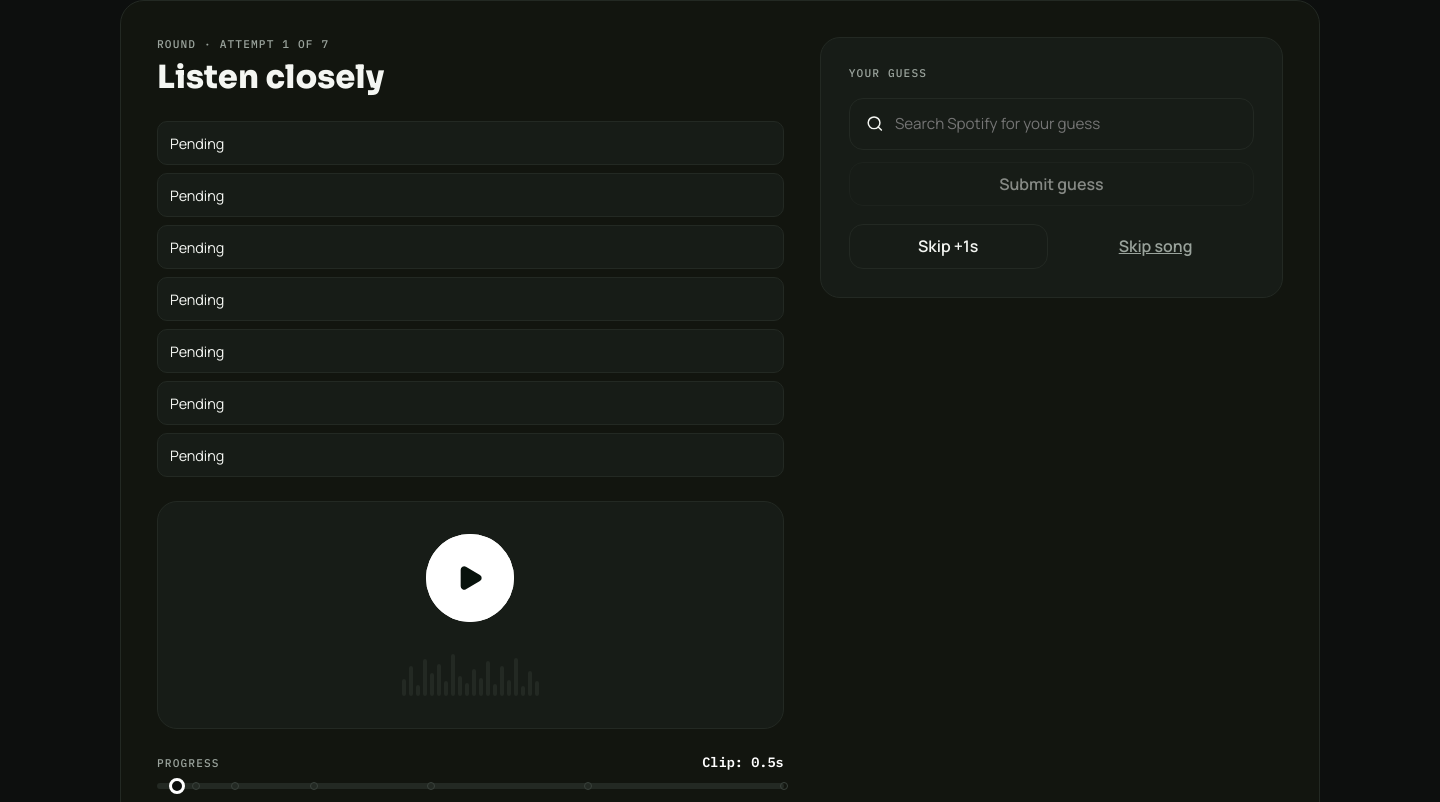
GameScreen interactions › activates before playback and submits a globally searched track that is absent from the answer catalog
Click the button named "Play 0.5 second clip".
click(470, 578)  # box [426,534,514,622]
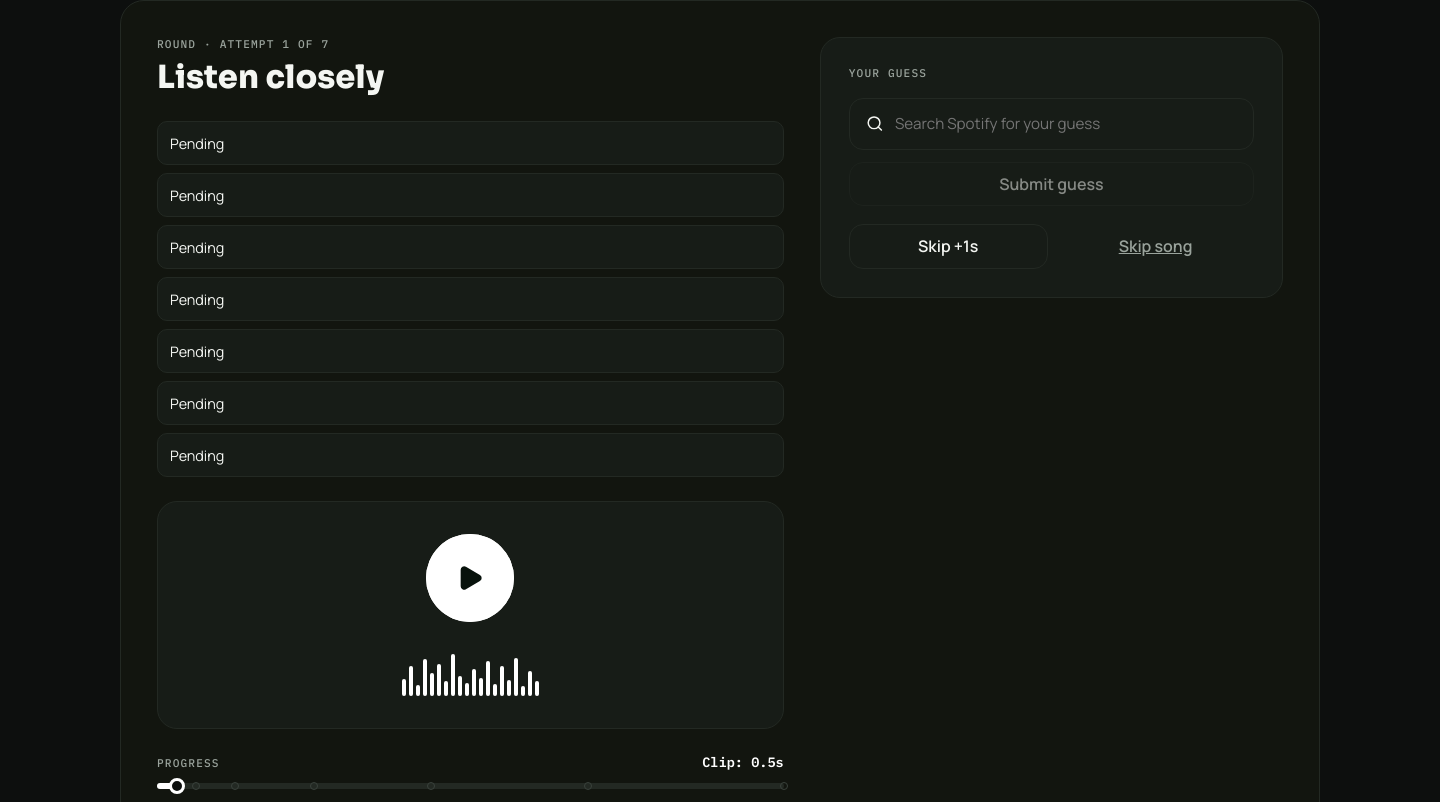
Type "Outside Song" into the dropdown labelled "guess".
click(1065, 124); type("Outside Song")  # box [893,112,1237,135]
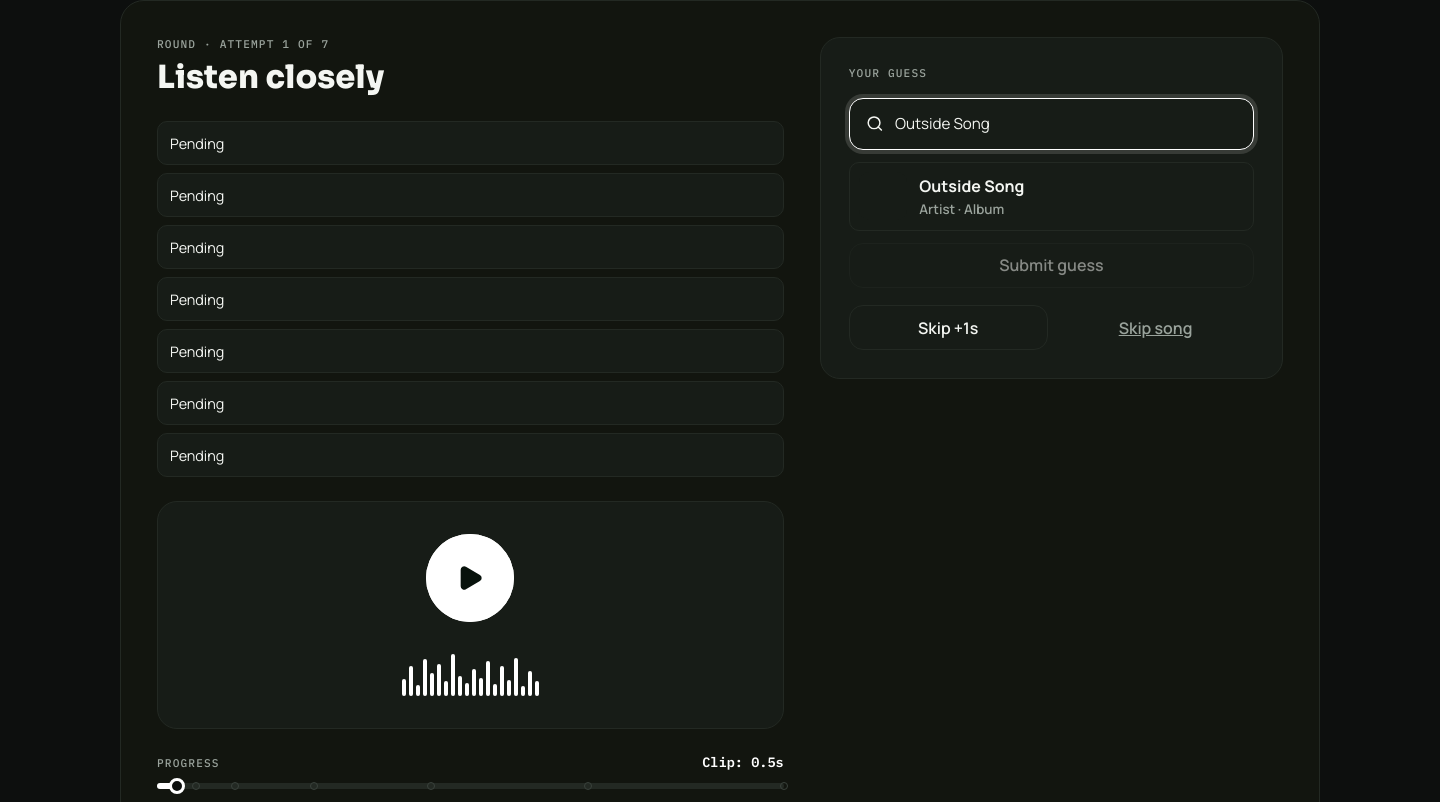
Click the option "Outside Song Artist · Album".
click(883, 196)  # box [849,162,1254,231]
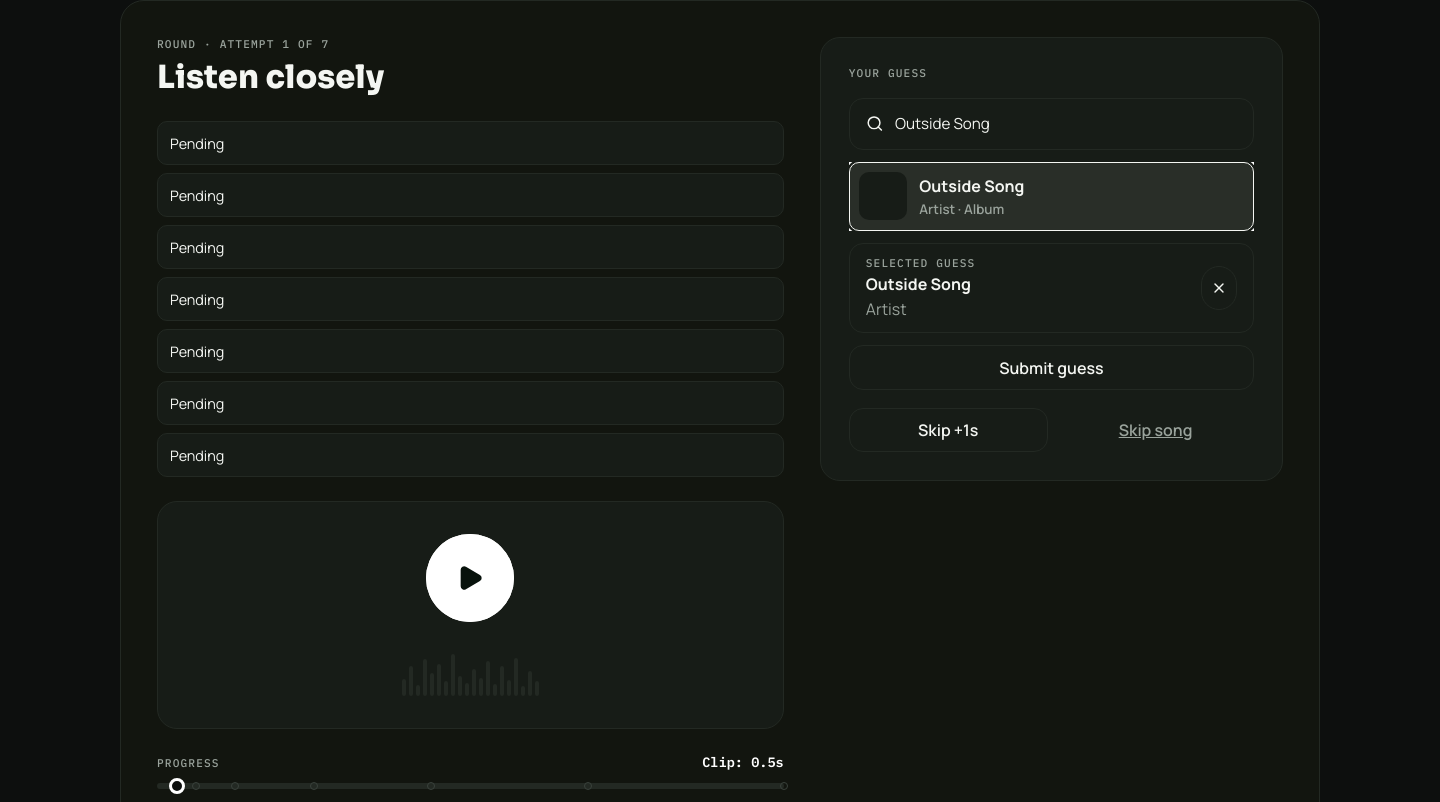
Click the button "Submit guess".
click(1051, 368)  # box [849,345,1254,390]
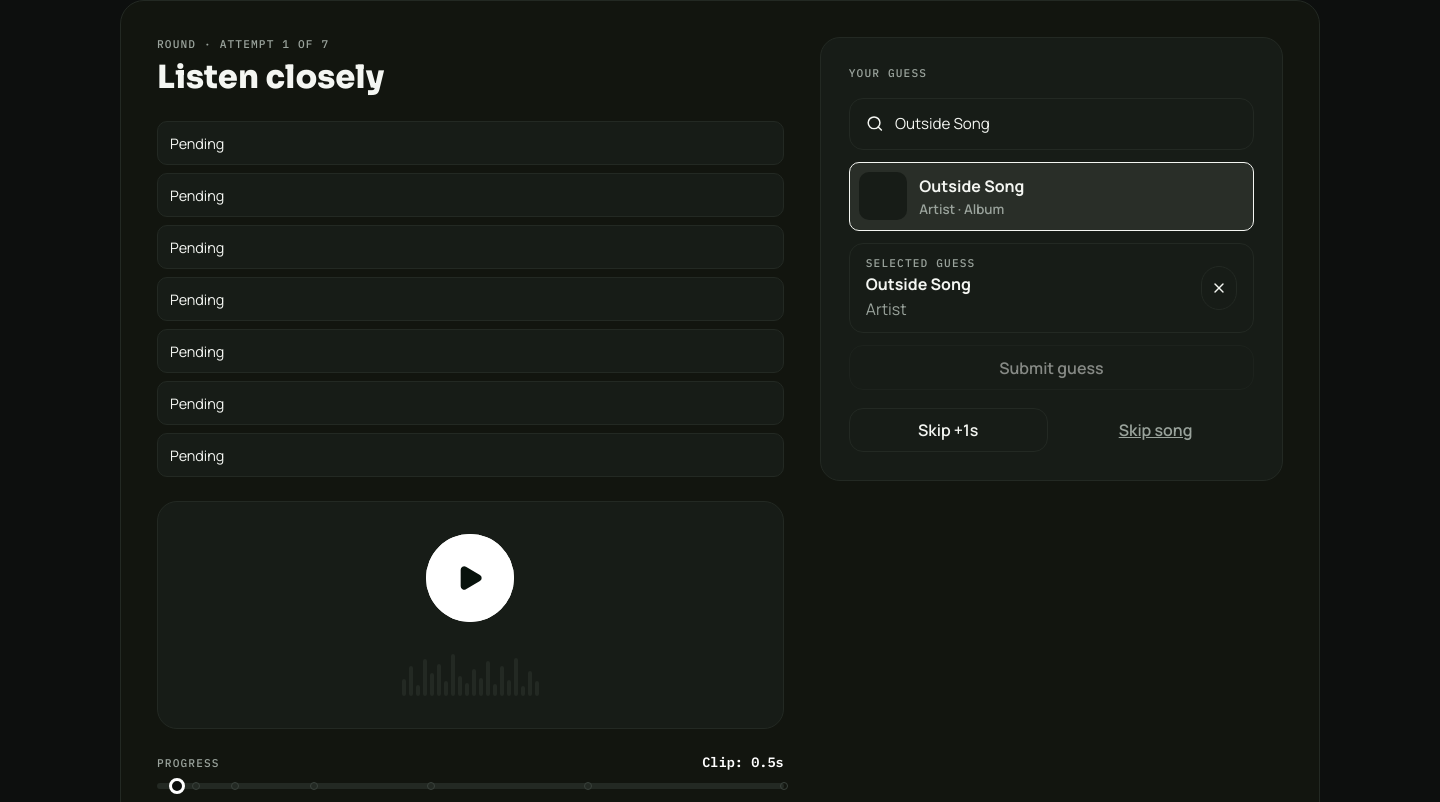
Check: the button "Submit guess" is disabled, box [849,345,1254,390]
